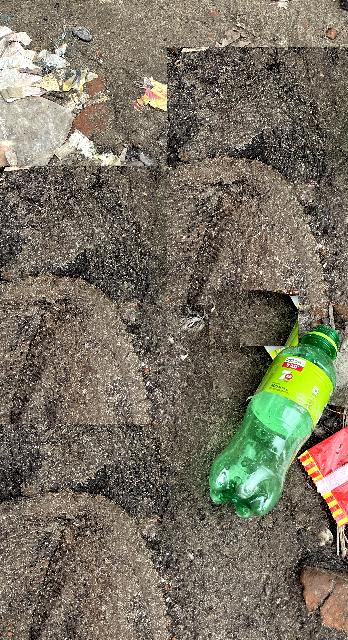bottle: (181, 298, 348, 514)
